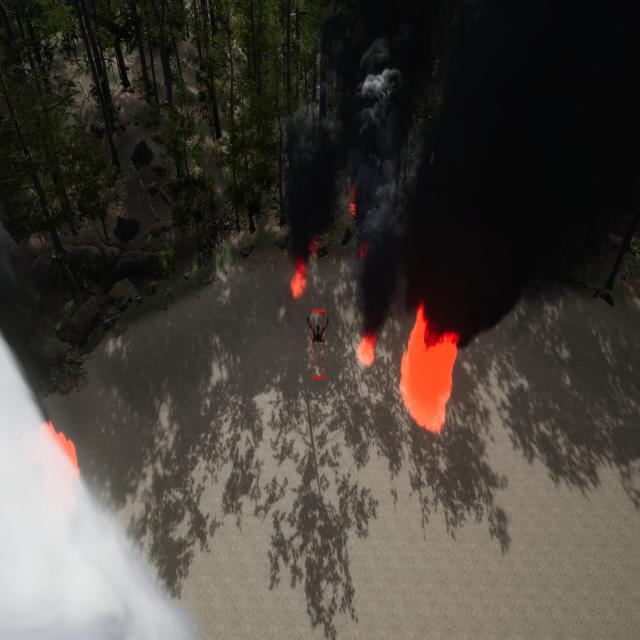Human: (300, 309, 332, 359)
